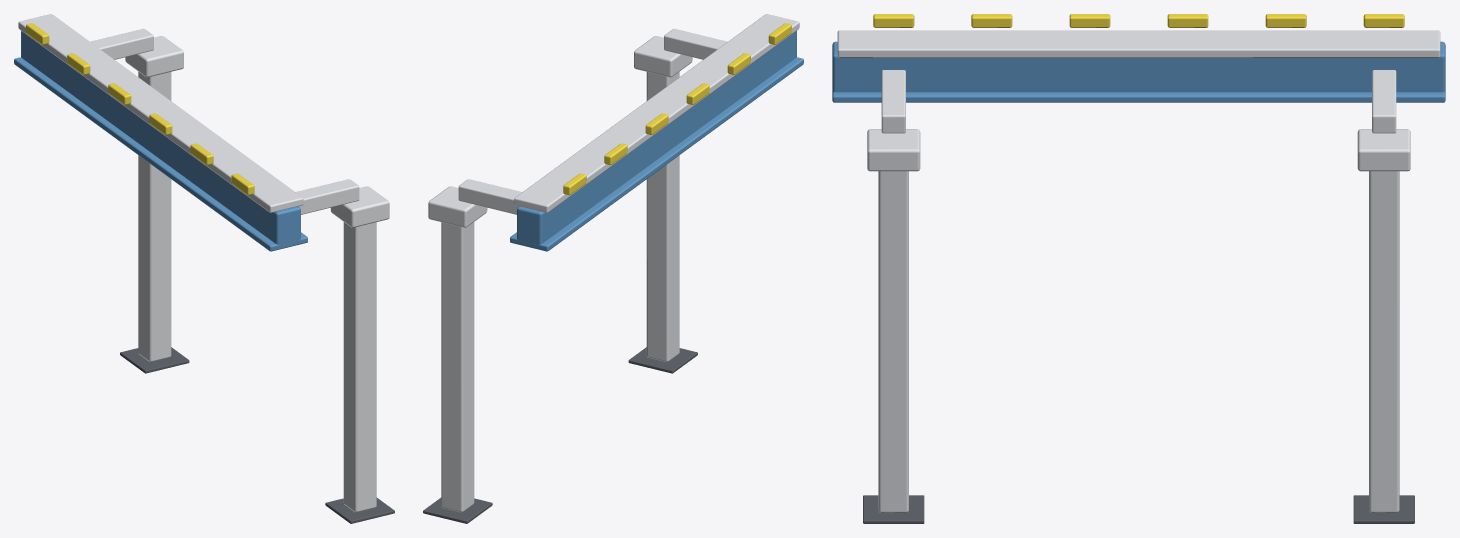
The model's file is overhead-rail-straight.glb.
3 views of the same model, side by side, from view 1: azimuth 30°, elevation 25°; view 2: azimuth 150°, elevation 25°; view 3: azimuth 270°, elevation 25° (orthographic). The views are drawn at different scales.
Parts seen in each view (by area): view 1: overhead-rail-straight; view 2: overhead-rail-straight; view 3: overhead-rail-straight.
Boxes of the visible parts, left/top/right/bottom form: overhead-rail-straight: left=14, top=14, right=394, bottom=523; overhead-rail-straight: left=423, top=14, right=803, bottom=523; overhead-rail-straight: left=832, top=14, right=1445, bottom=523.
Size of the model in its own units: 1.93 by 4.62 by 6.
